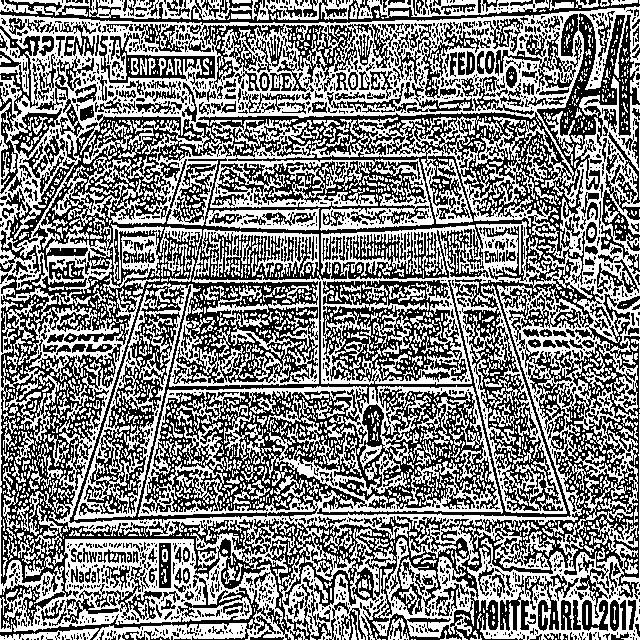left side: (420, 156, 569, 515), (72, 159, 219, 520)
player: (352, 382, 390, 501), (173, 78, 206, 143)
